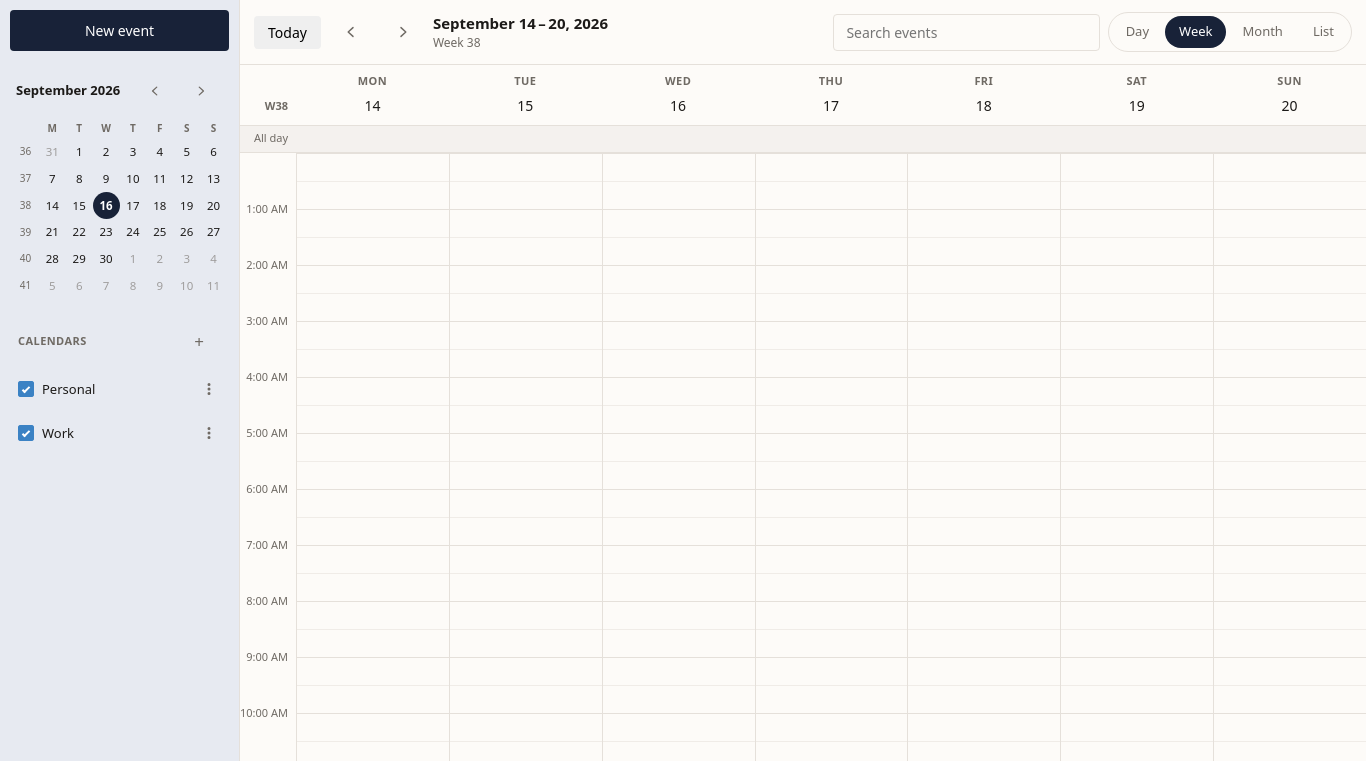
Test: CalendarLayout — searching › gives the grid back when the search is cleared
Type "retro" into the search field labelled "Search events" at (966, 32), box [833, 14, 1100, 50]
Then press Enter
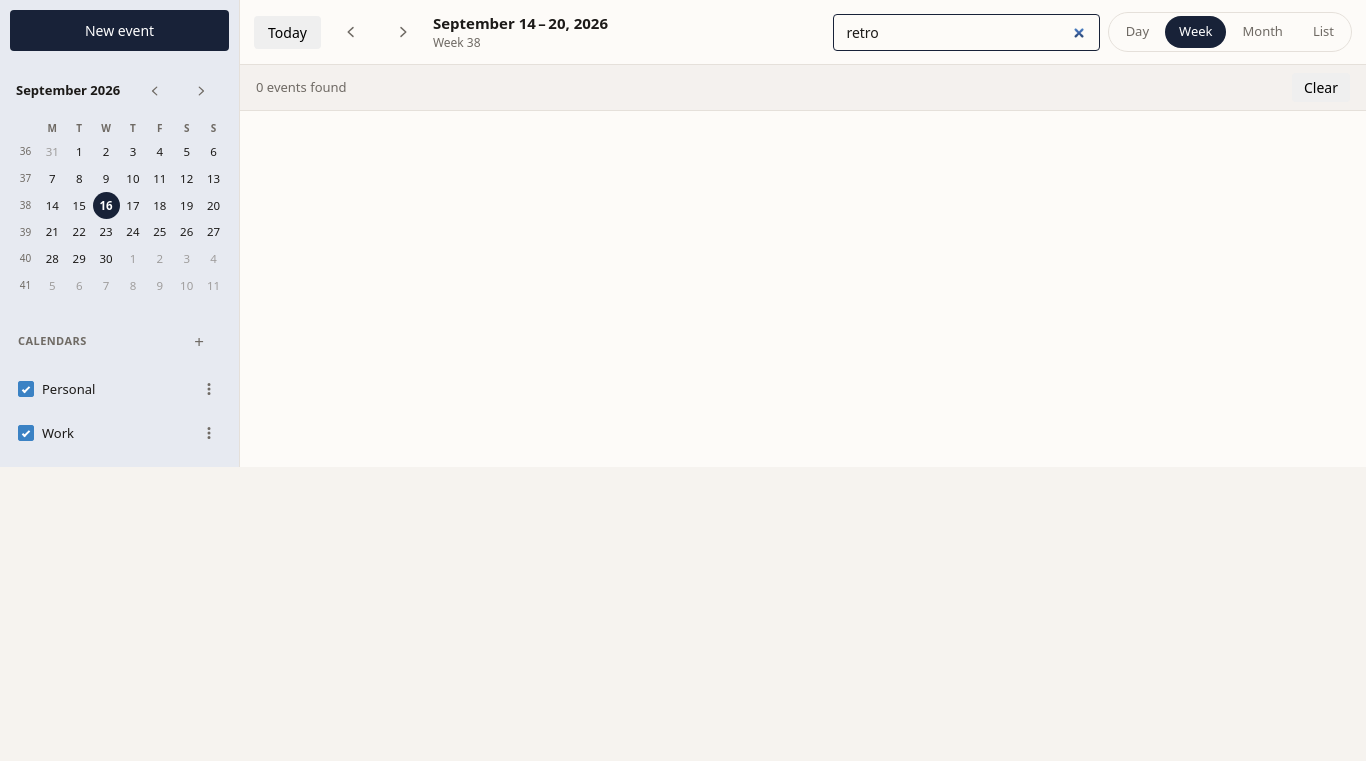
Expected: the text "0 events found" is shown, [256, 78, 347, 96]
Click the button "Clear" at (1321, 88), box [1292, 73, 1350, 102]
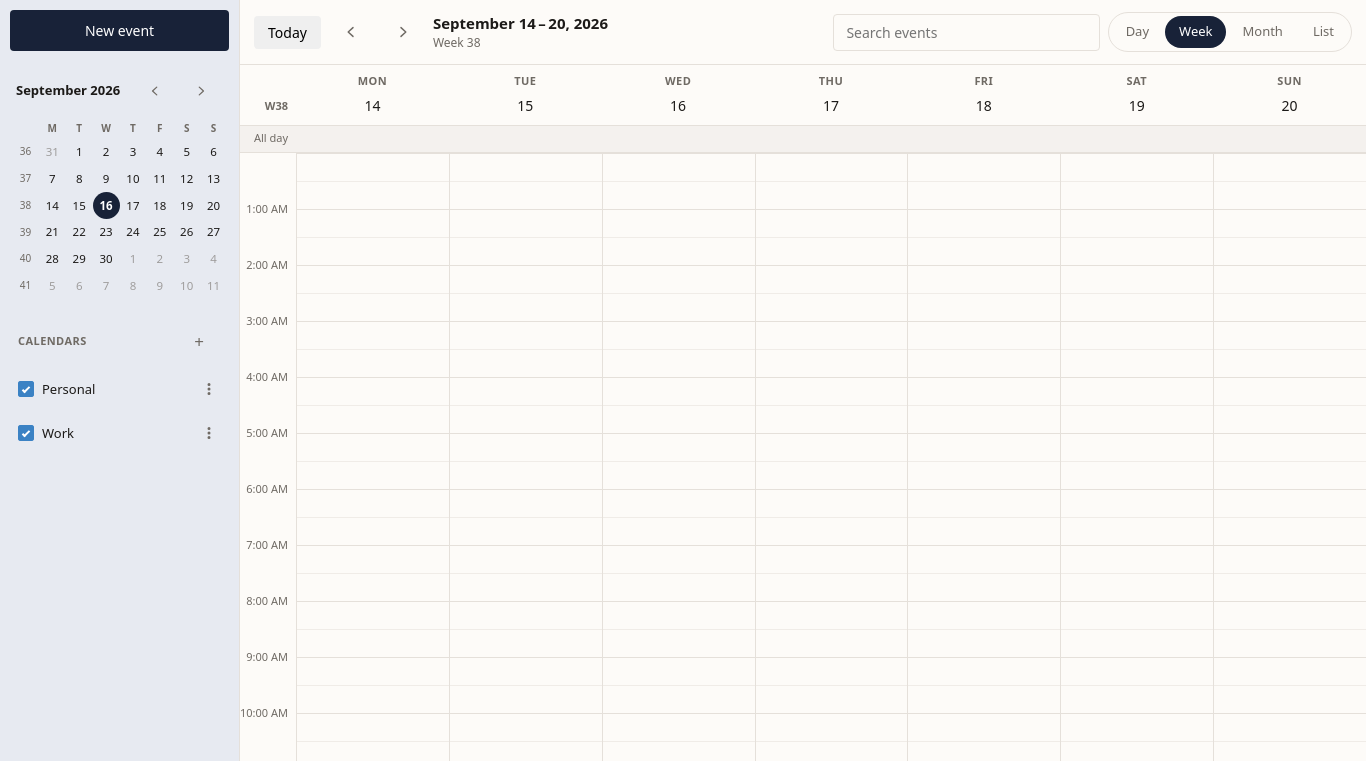
Expected: the search field labelled "Search events" is empty, [833, 14, 1100, 50]
